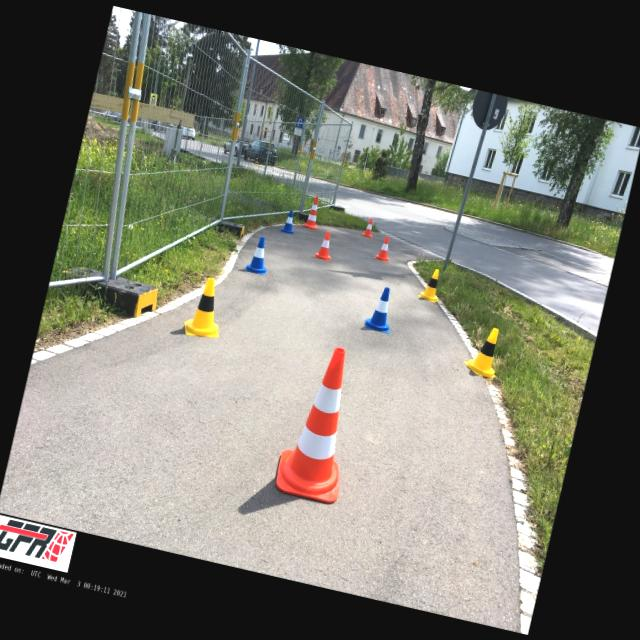blue_cone: (362, 284, 398, 334), (244, 234, 274, 275), (280, 208, 300, 234)
large_orange_cone: (272, 340, 371, 505), (301, 194, 325, 230)
orange_cone: (313, 229, 336, 261), (374, 234, 394, 262), (361, 218, 376, 238)
yellow_cone: (182, 274, 230, 340), (463, 323, 507, 379), (417, 266, 445, 303)
